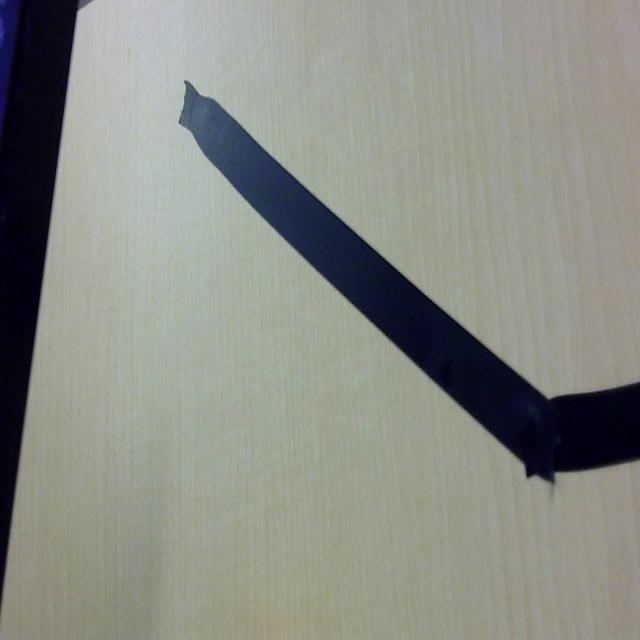tape: (162, 63, 640, 510)
